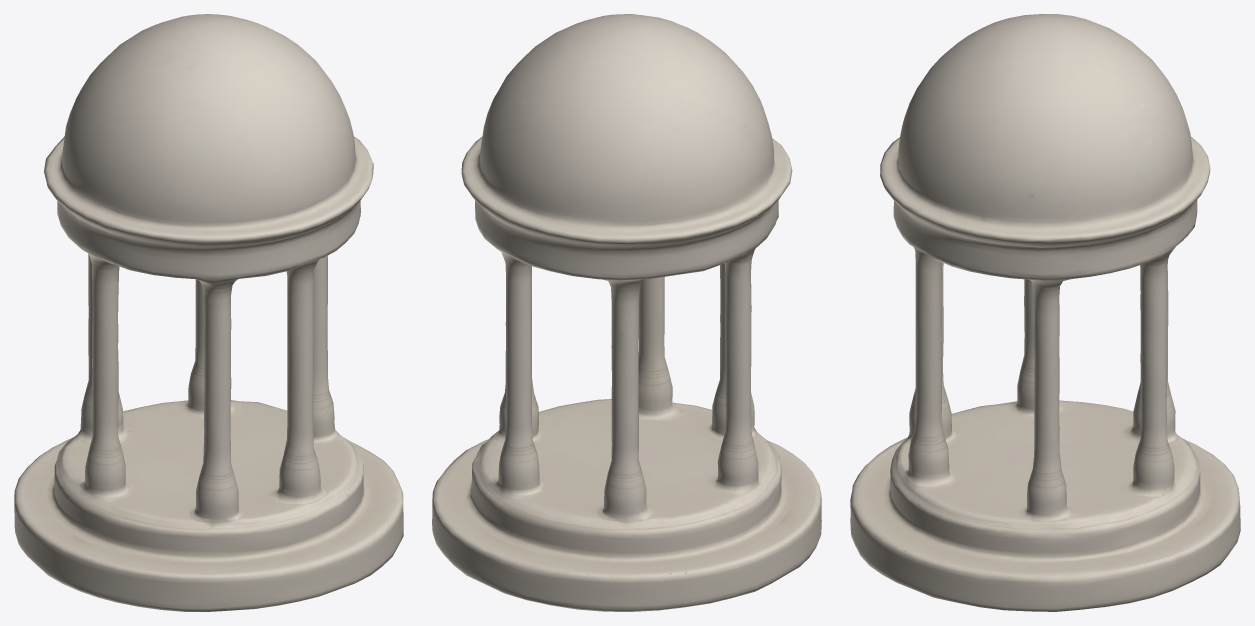
File: centro.fbx
3 views of the same model, side by side, from view 1: azimuth 30°, elevation 25°; view 2: azimuth 150°, elevation 25°; view 3: azimuth 270°, elevation 25° (orthographic).
Visible parts, largest first — view 1: tripo_node_5bf29b49; view 2: tripo_node_5bf29b49; view 3: tripo_node_5bf29b49.
Part boxes in pixels (x1,y1,x2,y2): tripo_node_5bf29b49: (14, 14, 403, 611); tripo_node_5bf29b49: (432, 14, 821, 611); tripo_node_5bf29b49: (850, 14, 1240, 611).
Bounding box in the file's own units: 0.698 × 0.9984 × 0.6996.
1 material, 1 textured.
